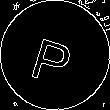P_N: (30, 26, 80, 84)
